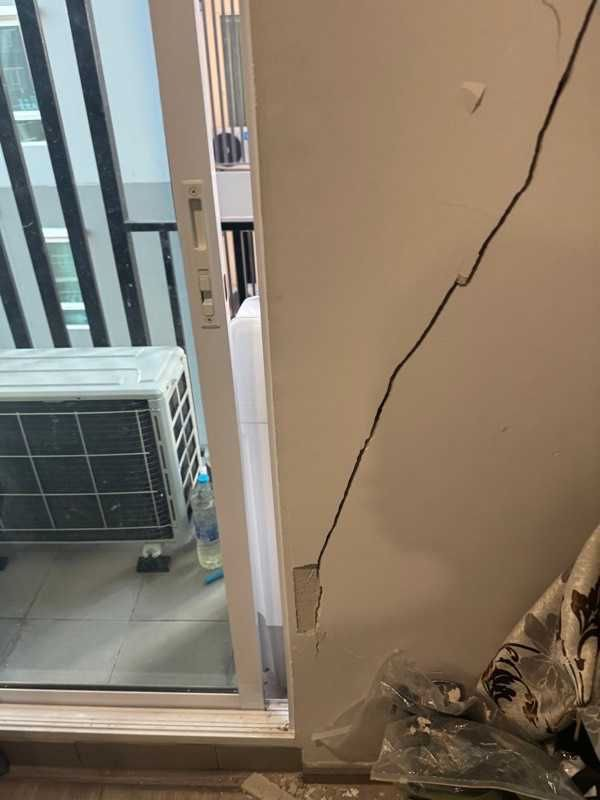Medium: (303, 102, 579, 535)
